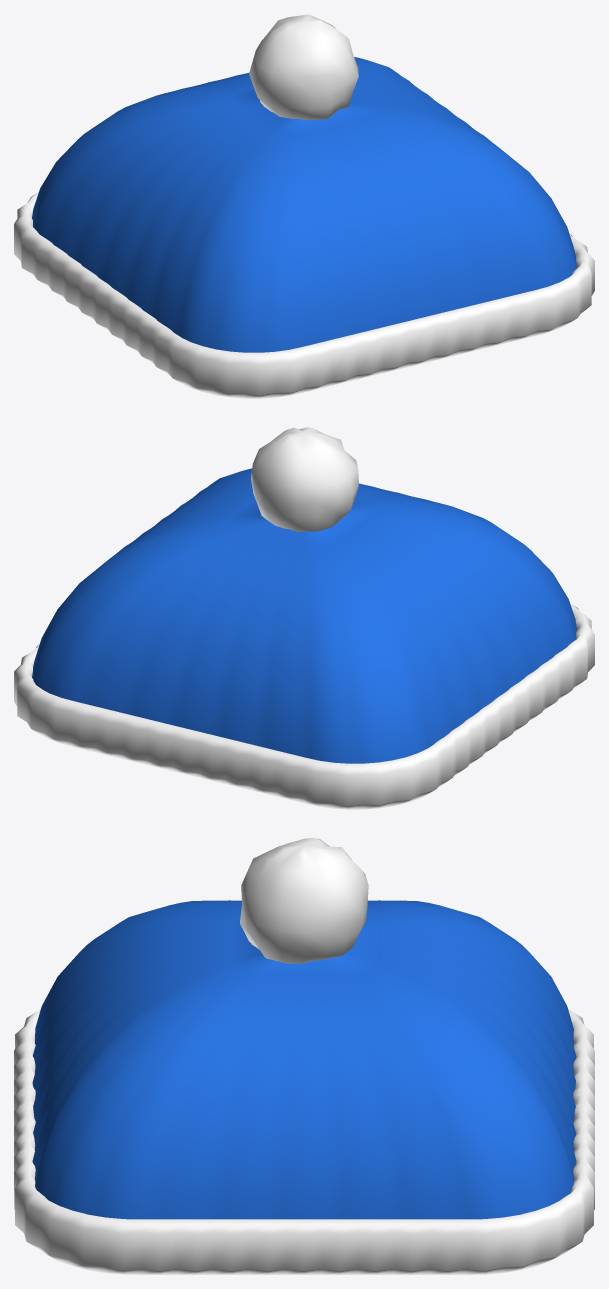
File: beanie.glb
The picture shows the model from 3 angles, top to bottom: view 1: azimuth 30°, elevation 25°; view 2: azimuth 150°, elevation 25°; view 3: azimuth 270°, elevation 25°; orthographic projection. The views are drawn at different scales.
Visible parts, largest first — view 1: crown, cuff, pompom; view 2: crown, cuff, pompom; view 3: crown, cuff, pompom.
Part boxes in pixels (x1,y1,x2,y2): crown: [32, 57, 577, 352]; cuff: [14, 192, 594, 398]; pompom: [249, 14, 358, 120]; crown: [32, 468, 576, 763]; cuff: [14, 603, 594, 809]; pompom: [251, 427, 358, 531]; crown: [32, 900, 576, 1219]; cuff: [14, 1009, 594, 1274]; pompom: [240, 838, 368, 963].
Bounding box in the file's own units: 1.42 × 0.8474 × 1.42.
